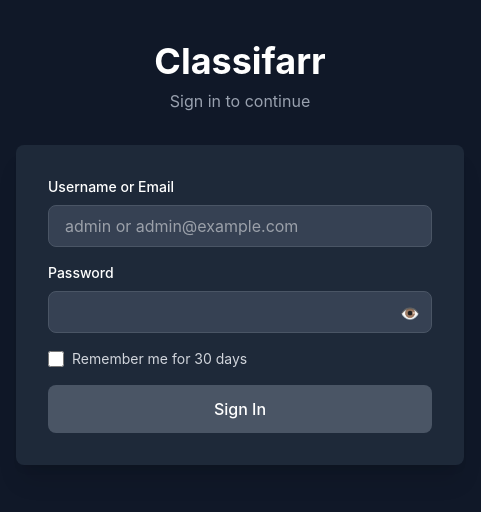
Test: Login.vue › login submission › shows fallback error message when server provides no message
Type "admin" into the field with placeholder "admin or admin@example.com" at (240, 226), box [48,205,432,247]
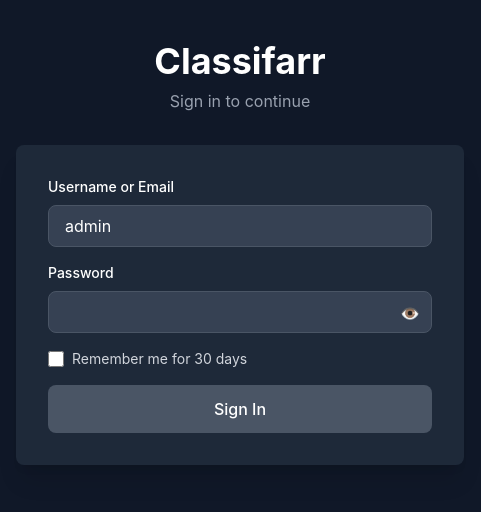
Type "pass" into the password field at (240, 312), box [48,291,432,333]
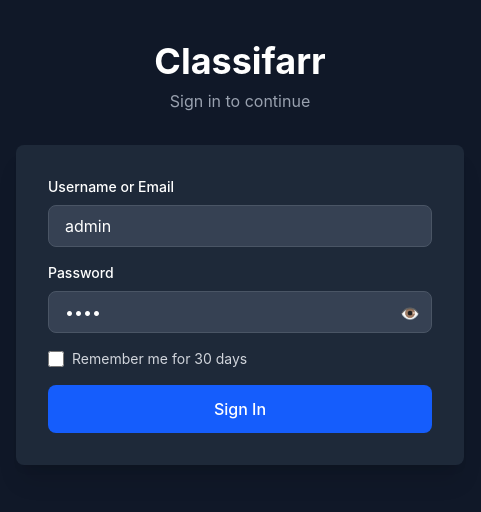
Submit the form, box [48,177,432,433]
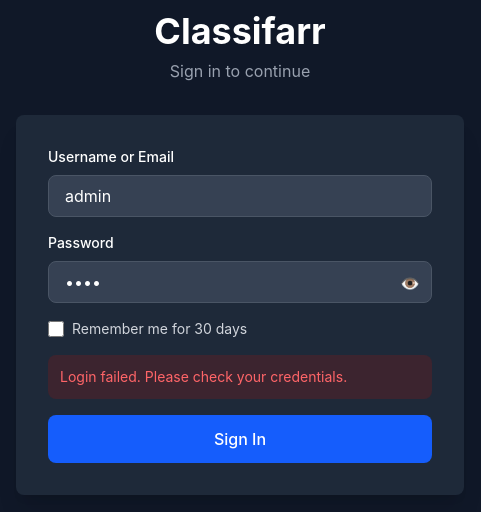
Expected: the text "Login failed" is shown, [60,368,347,385]
